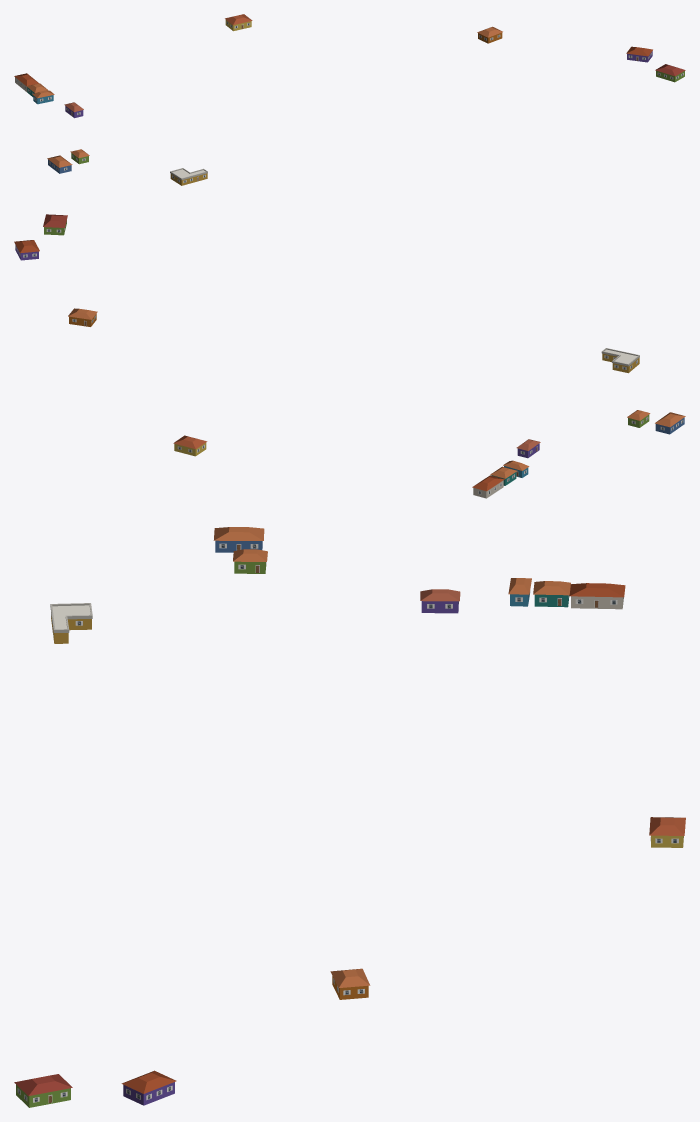
File: msb_oranjestad_m10_6.glb
3 renders of one model, top to bottom at view 1: azimuth 30°, elevation 25°; view 2: azimuth 150°, elevation 25°; view 3: azimuth 270°, elevation 25°, orthographic. The views are drawn at different scales.
Parts seen in each view (by area): view 1: msb_oranjestad_m10_6_lod0; view 2: msb_oranjestad_m10_6_lod0; view 3: msb_oranjestad_m10_6_lod0.
Part boxes in pixels (x1,y1,x2,y2): msb_oranjestad_m10_6_lod0: (14,14,685,185); msb_oranjestad_m10_6_lod0: (14,214,685,498); msb_oranjestad_m10_6_lod0: (14,527,685,1107).
Size of what is drawn, in the model's own units: 328 by 10.17 by 169.
Materials: 3 (1 with a texture image).
